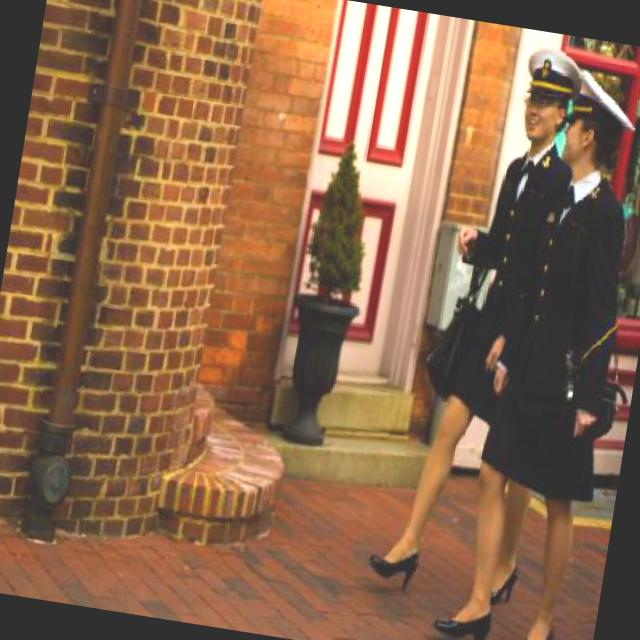Person: (366, 29, 604, 615)
